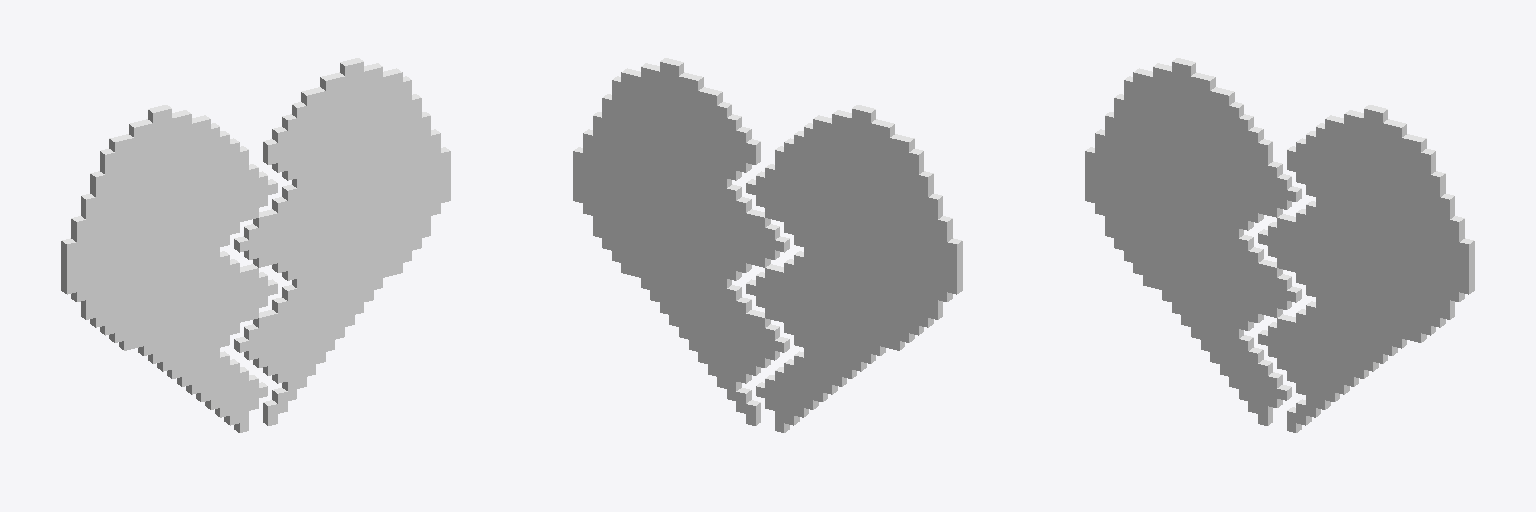
The model's file is breakheart.obj.
3 views of the same model, side by side, from view 1: azimuth 30°, elevation 25°; view 2: azimuth 150°, elevation 25°; view 3: azimuth 330°, elevation 25° (orthographic).
Parts seen in each view (by area): view 1: object 1; view 2: object 1; view 3: object 1.
Boxes of the visible parts, box(x1,y1,x2,y2) form: object 1: box(61, 58, 450, 432); object 1: box(573, 58, 962, 432); object 1: box(1085, 58, 1474, 432).
Bounding box in the file's own units: 4 × 3.4 × 0.1.